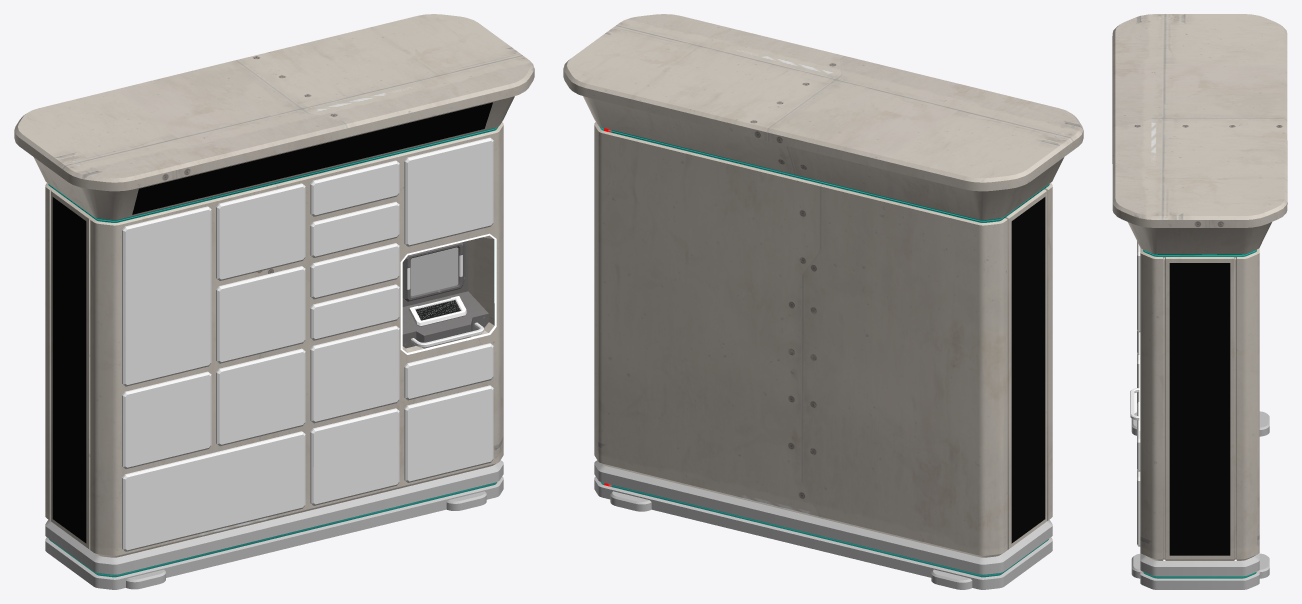
The model's file is KB3D_CBP_VendingMachine_E.fbx.
3 views of the same model, side by side, from view 1: azimuth 30°, elevation 25°; view 2: azimuth 150°, elevation 25°; view 3: azimuth 270°, elevation 25° (orthographic). The views are drawn at different scales.
Visible parts, largest first — view 1: KB3D_CBP_VendingMachine_E_Main; view 2: KB3D_CBP_VendingMachine_E_Main; view 3: KB3D_CBP_VendingMachine_E_Main.
Part boxes in pixels (x1,y1,x2,y2): KB3D_CBP_VendingMachine_E_Main: [14, 14, 534, 589]; KB3D_CBP_VendingMachine_E_Main: [563, 14, 1083, 589]; KB3D_CBP_VendingMachine_E_Main: [1112, 14, 1287, 589].
Bounding box in the file's own units: 308 × 270 × 111.
